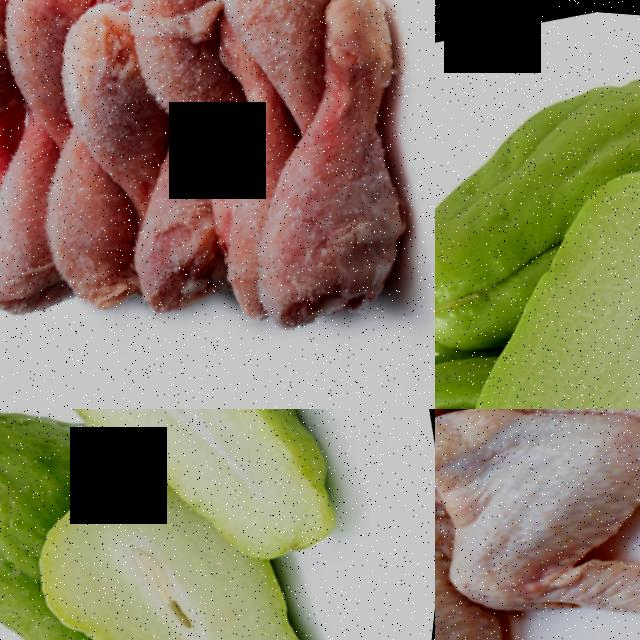chayote: (435, 89, 640, 409), (54, 483, 293, 640), (0, 409, 91, 574), (39, 409, 273, 458)
chicken thigh: (201, 0, 435, 339), (99, 0, 288, 209), (0, 0, 68, 236)
chicken wing: (435, 409, 640, 640), (435, 409, 640, 470)
